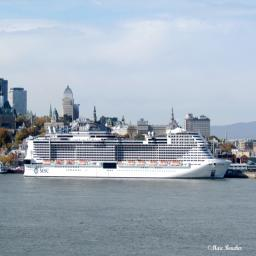cruises: (23, 127, 235, 183)
